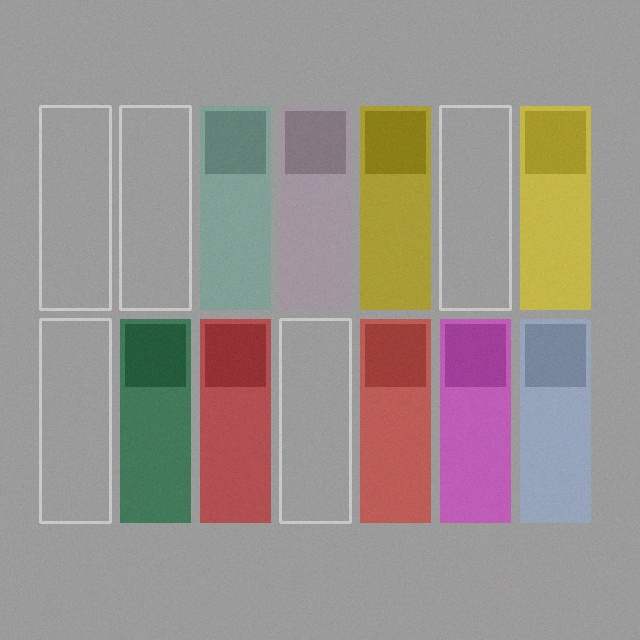space-empty: (40, 106, 110, 309), (120, 106, 190, 309), (440, 106, 510, 309), (40, 319, 110, 522), (280, 319, 350, 522)
space-occupied: (200, 106, 270, 309), (280, 106, 350, 309), (360, 106, 430, 309), (520, 106, 590, 309), (120, 319, 190, 522), (200, 319, 270, 522), (360, 319, 430, 522), (440, 319, 510, 522), (520, 319, 590, 522)
